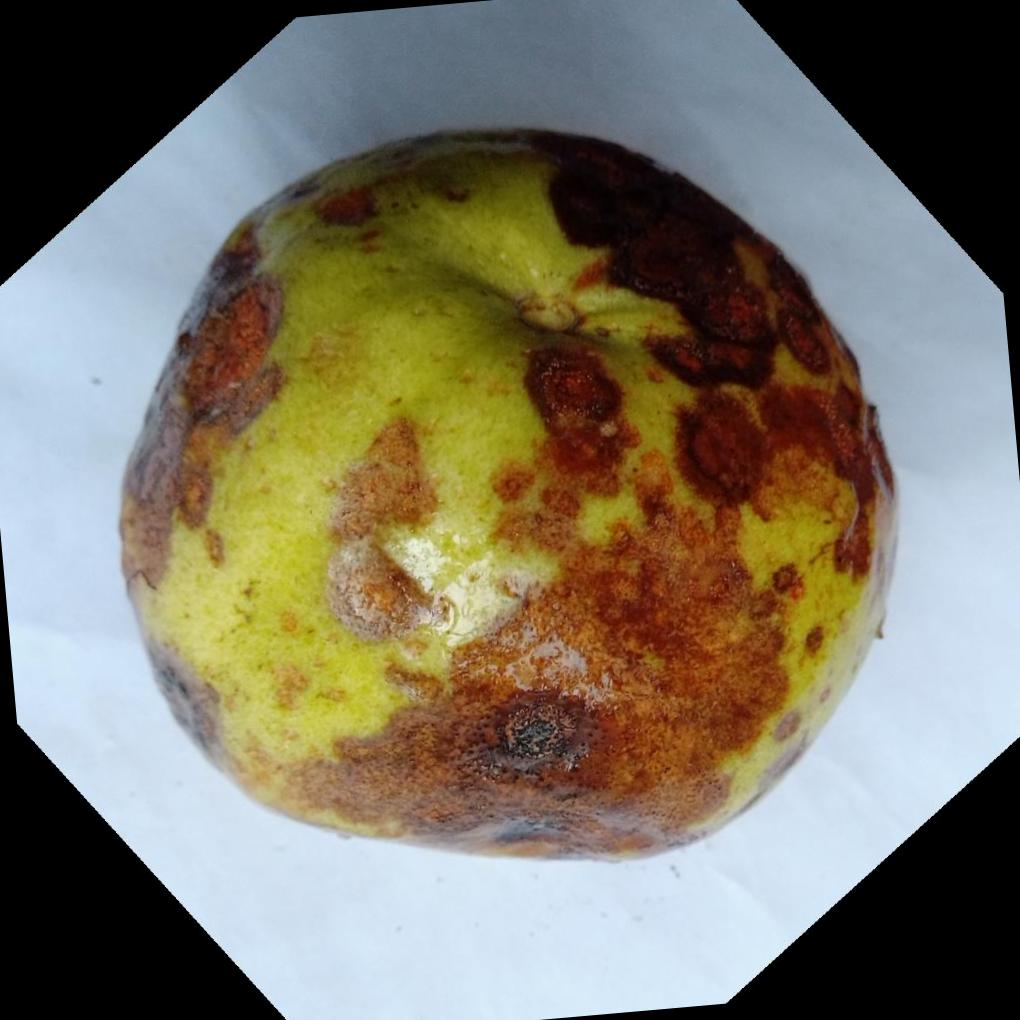FreshOrange: (115, 128, 898, 866)
